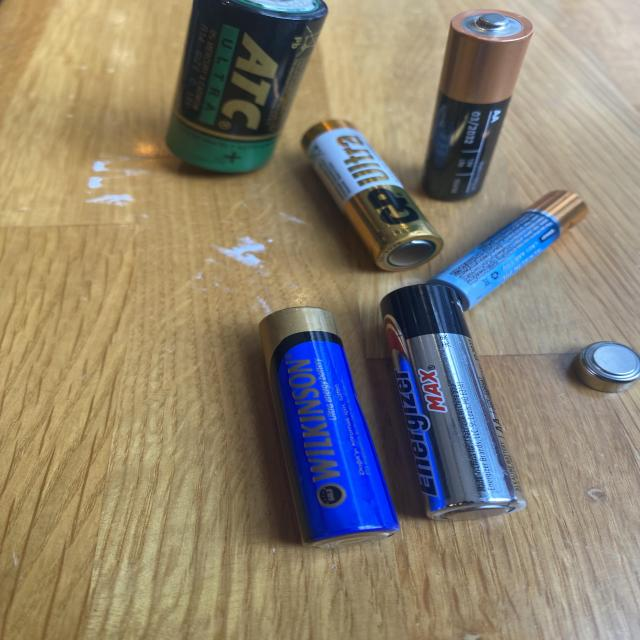AA: (258, 305, 401, 549), (420, 8, 534, 201)
